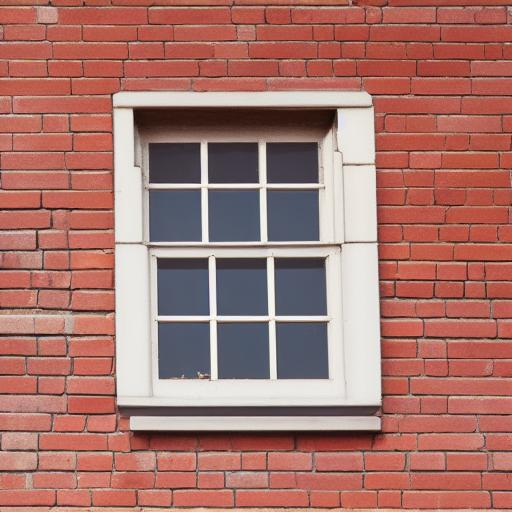Window: (112, 91, 386, 435)
